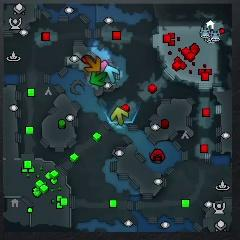x1: (99, 58, 109, 71)
x2: (111, 107, 129, 125)
x3: (105, 64, 121, 85)
x4: (90, 70, 107, 87)
x5: (85, 54, 102, 73)
